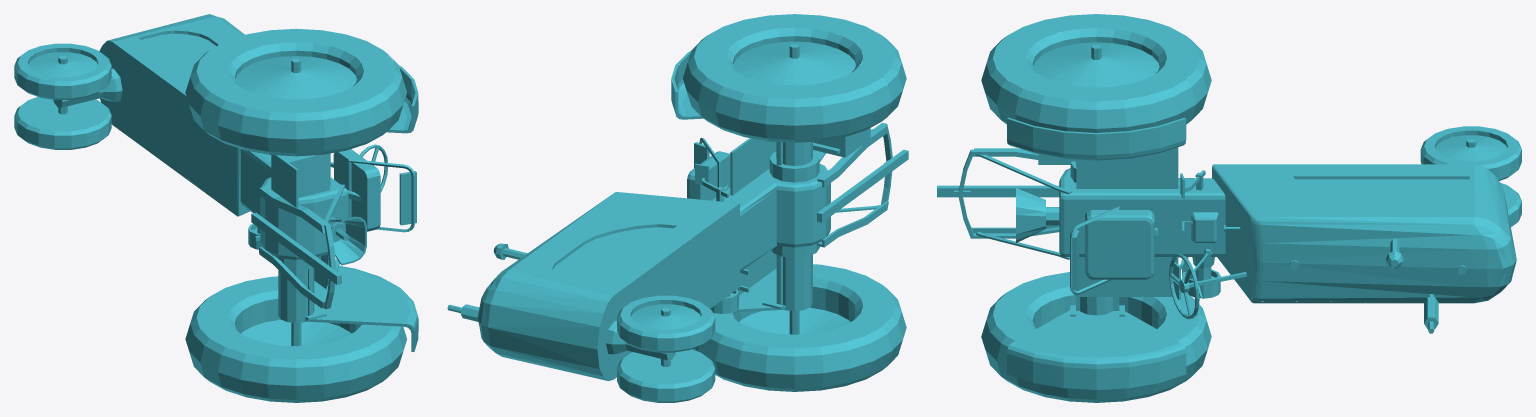
The picture shows the model from 3 angles, left to right: view 1: azimuth 30°, elevation 25°; view 2: azimuth 150°, elevation 25°; view 3: azimuth 270°, elevation 25°; orthographic projection. The views are drawn at different scales.
Visible parts, largest first — view 1: Renderer Node; view 2: Renderer Node; view 3: Renderer Node.
Part boxes in pixels (x1=…): Renderer Node: x1=14, y1=14, x2=418, y2=402; Renderer Node: x1=447, y1=14, x2=908, y2=402; Renderer Node: x1=937, y1=14, x2=1521, y2=402.
Size of the model in its own units: 1.14 by 1.22 by 2.
1 material, 1 textured.
